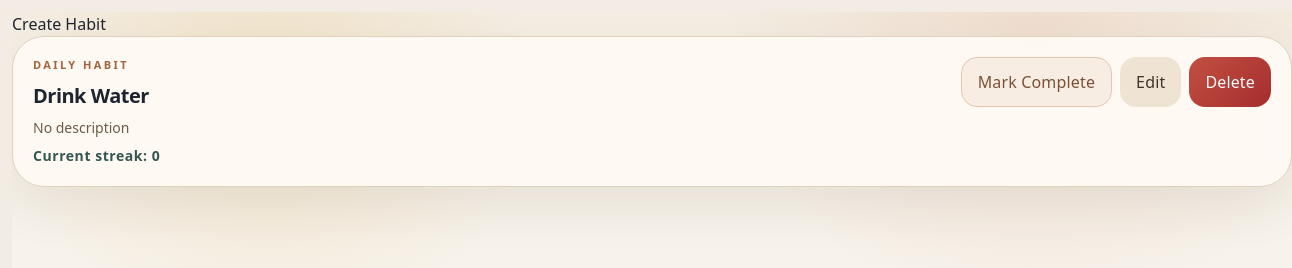
Test case: habit form › toggles completion and updates the streak display
This screenshot has width=1292, height=268.
Expected: the text with test id "habit-streak-drink-water" reads "Current streak: 0", [33,146,160,166]
Click the button with test id "habit-complete-drink-water": [1036, 82] box [961,57,1112,107]
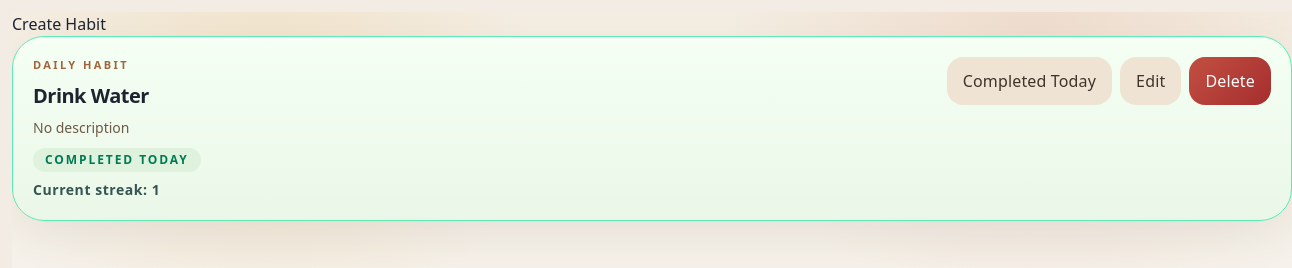
Expected: the text with test id "habit-streak-drink-water" reads "Current streak: 1", [33,180,160,198]
